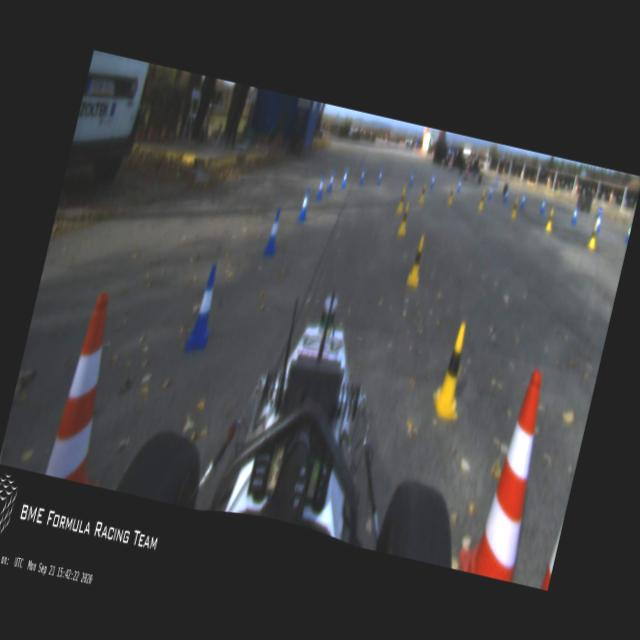blue_cone: (180, 260, 226, 356), (260, 204, 286, 258), (296, 187, 312, 222), (314, 173, 326, 198), (593, 206, 604, 232), (326, 169, 336, 191), (570, 204, 580, 225), (357, 165, 367, 184), (538, 194, 547, 215), (340, 168, 349, 189), (375, 167, 384, 185), (519, 191, 527, 209), (428, 173, 436, 190), (486, 184, 494, 199), (502, 188, 509, 204), (408, 170, 414, 187), (625, 224, 631, 241), (456, 177, 462, 193), (494, 177, 498, 184)
large_orange_cone: (454, 362, 562, 582), (43, 287, 132, 484)
orange_cone: (608, 188, 614, 200), (574, 182, 578, 192)
unknown_cone: (429, 150, 434, 160), (422, 147, 426, 156), (425, 150, 429, 158), (416, 146, 420, 154), (419, 147, 422, 155)
yellow_cone: (428, 319, 478, 421), (405, 234, 429, 287), (397, 202, 412, 237), (586, 219, 600, 249), (394, 186, 408, 213), (544, 207, 556, 233), (417, 180, 428, 205), (446, 184, 456, 206), (476, 186, 486, 208), (509, 198, 519, 220)
